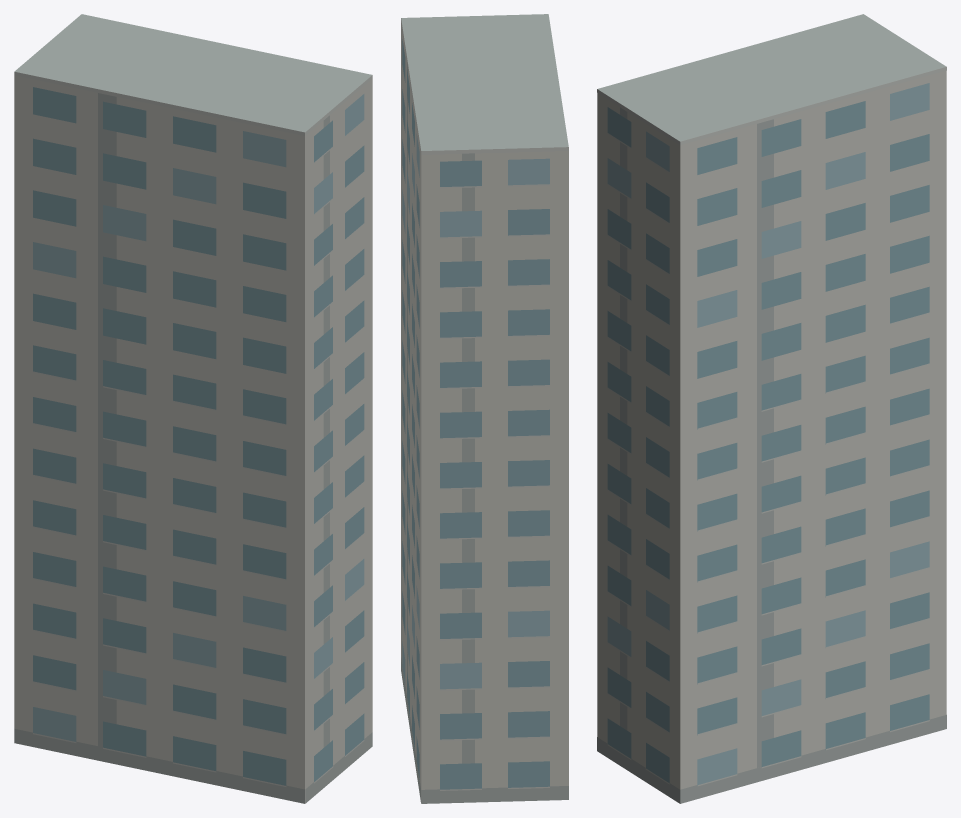
The model's file is residential-6cb4bb80-b940-4cd7-9141-62ede2dc0915.glb.
3 renders of one model, left to right at view 1: azimuth 30°, elevation 25°; view 2: azimuth 150°, elevation 25°; view 3: azimuth 270°, elevation 25°, orthographic. The views are drawn at different scales.
Visible parts, largest first — view 1: residential-6cb4bb80-b940-4cd7-9141-62ede2dc0915.tmp; view 2: residential-6cb4bb80-b940-4cd7-9141-62ede2dc0915.tmp; view 3: residential-6cb4bb80-b940-4cd7-9141-62ede2dc0915.tmp.
Part boxes in pixels (bbox=[...]): residential-6cb4bb80-b940-4cd7-9141-62ede2dc0915.tmp: bbox=[14, 14, 372, 803]; residential-6cb4bb80-b940-4cd7-9141-62ede2dc0915.tmp: bbox=[401, 14, 568, 803]; residential-6cb4bb80-b940-4cd7-9141-62ede2dc0915.tmp: bbox=[597, 14, 946, 803].
Bounding box in the file's own units: 17.8 × 43 × 20.58.
